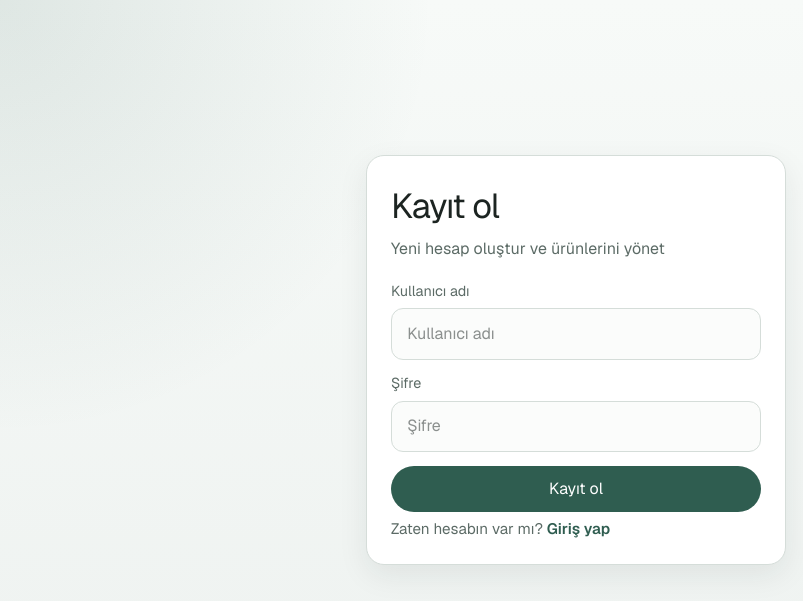
Test: RegisterPage › should show error when registration fails
The width and height of the screenshot is (803, 601).
In the field labelled "Kullanıcı adı": (576, 334) [391, 308, 761, 360], type "fatih"
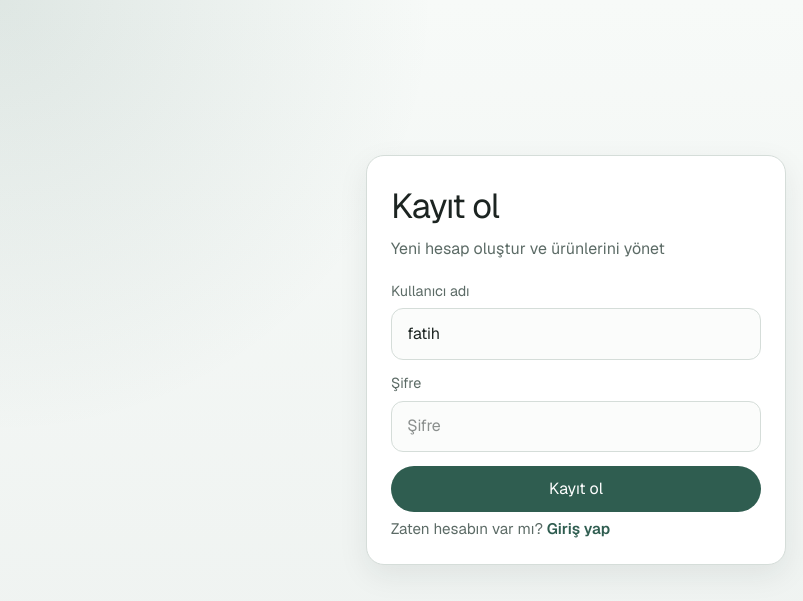
In the password field labelled "Şifre": (576, 426) [391, 400, 761, 452], type "123456"
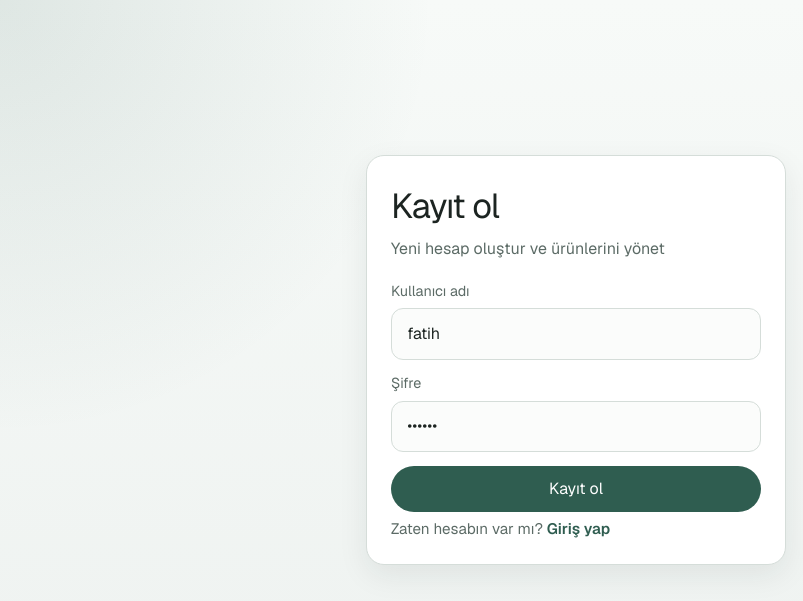
Click the button "Kayıt ol": (576, 489) [391, 466, 761, 512]
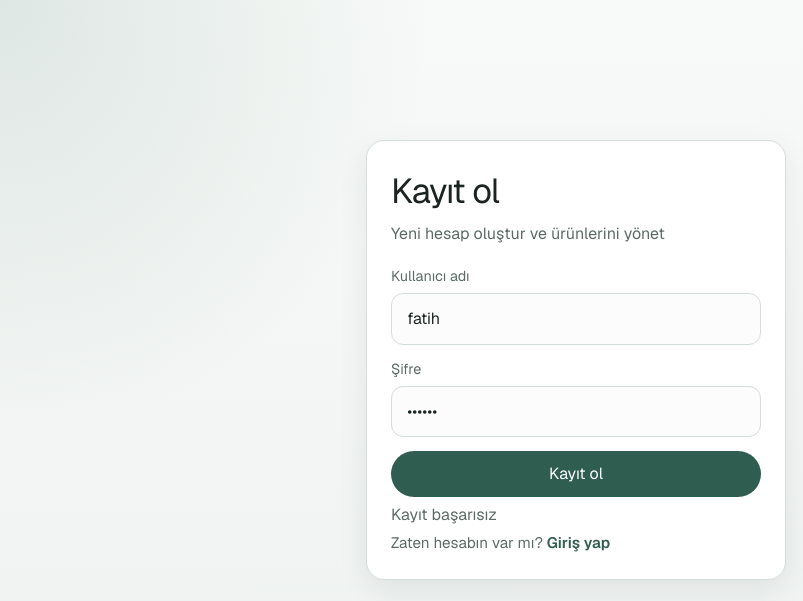
Check: the text "Kayıt başarısız" is shown, box [391, 504, 497, 525]
